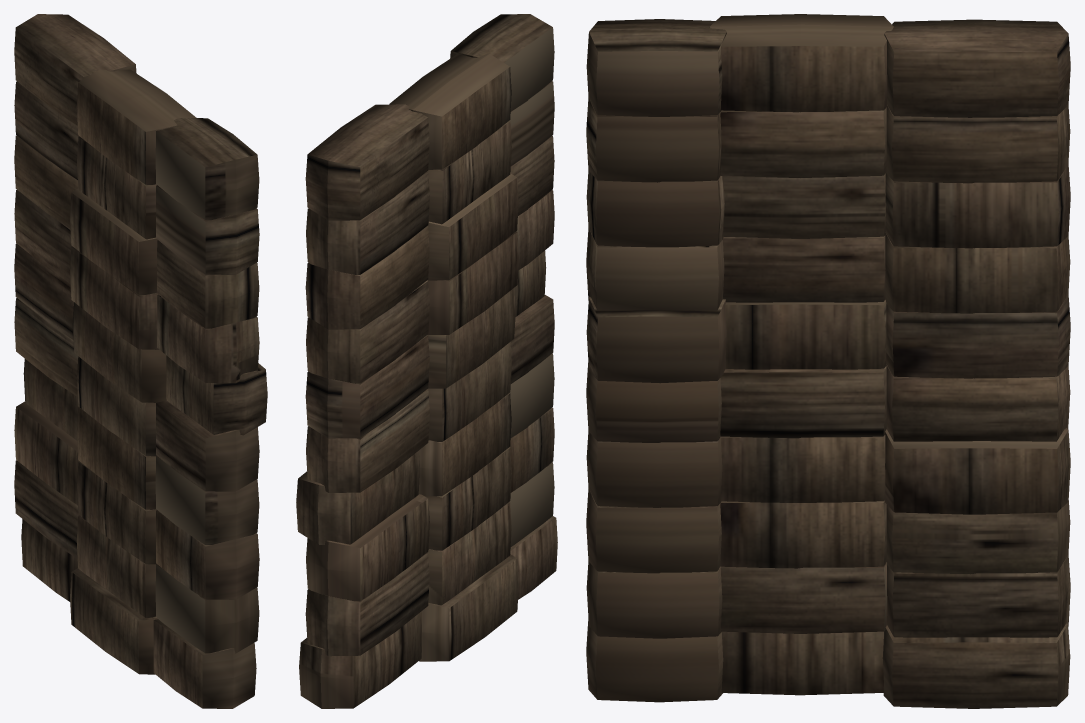
The model's file is Pared_S.fbx.
The picture shows the model from 3 angles, left to right: view 1: azimuth 30°, elevation 25°; view 2: azimuth 150°, elevation 25°; view 3: azimuth 270°, elevation 25°; orthographic projection. The views are drawn at different scales.
Parts seen in each view (by area): view 1: w; view 2: w; view 3: w.
Boxes of the visible parts, <box> form: w: <box>14,14,267,708</box>; w: <box>296,14,557,708</box>; w: <box>586,14,1070,708</box>.
Size of the model in its own units: 71.41 by 443 by 293.
